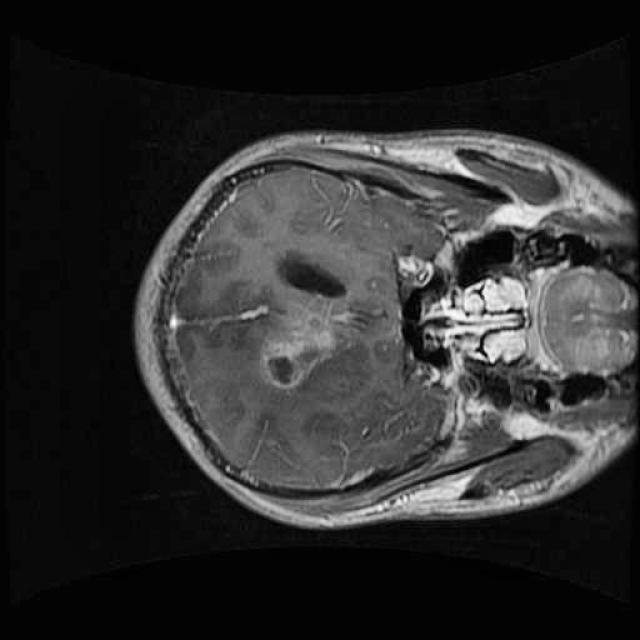Non-Tumor: (243, 289, 358, 404)
